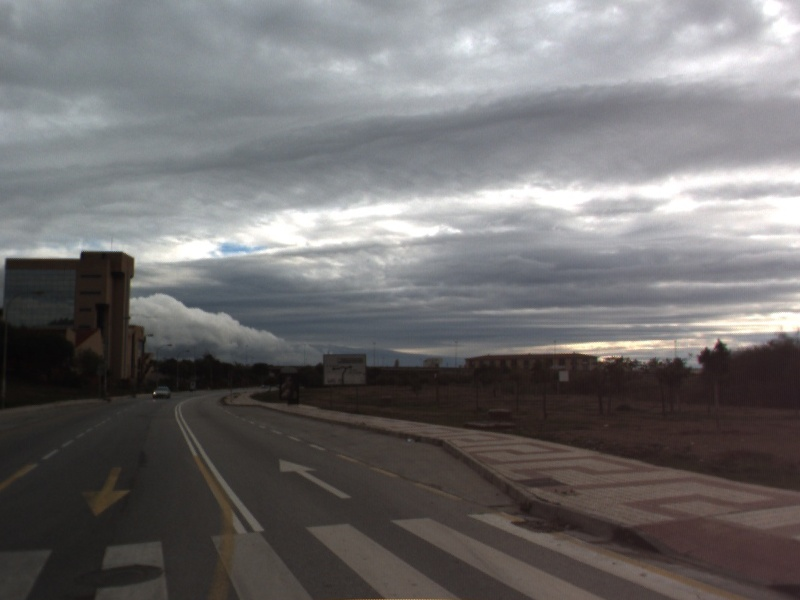STRAIGHT: (277, 457, 354, 500)
